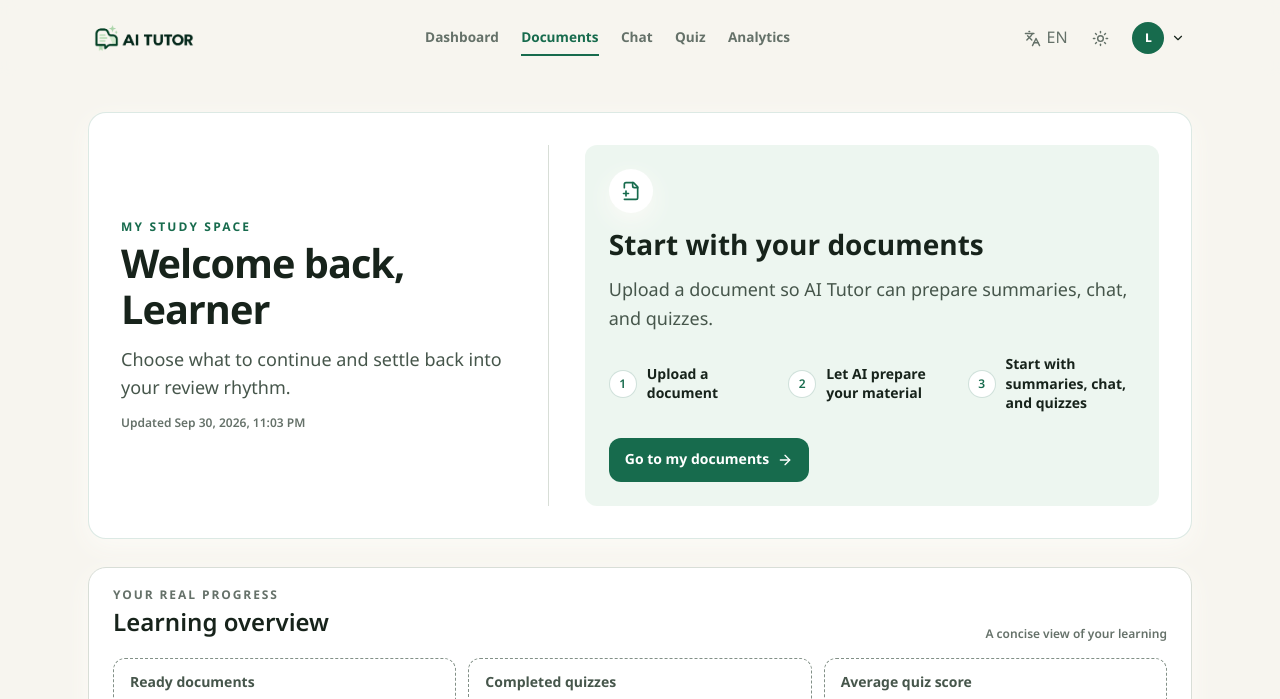
AppShell › keeps an empty Dashboard in the same active language as the product navigation
Expected: the heading "Start with your documents" is shown, [609, 225, 984, 268]
Expected: the heading "Learning overview" is shown, [113, 608, 329, 642]
Click the button with aria-label "Language: EN" at (1046, 38), box [1015, 16, 1076, 60]
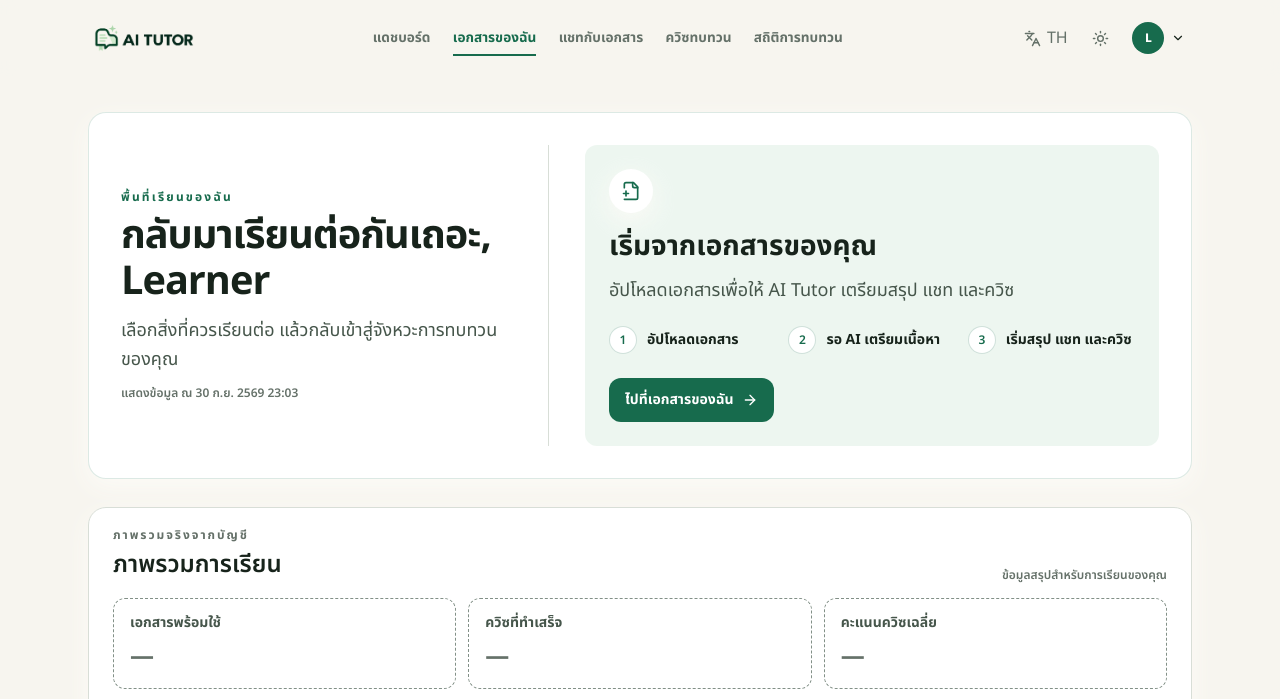
Now the button with aria-label "ภาษา: TH" is shown, box [1016, 16, 1076, 60]
Now the heading "เริ่มจากเอกสารของคุณ" is shown, box [609, 225, 877, 268]
Now the heading "Start with your documents" is gone
